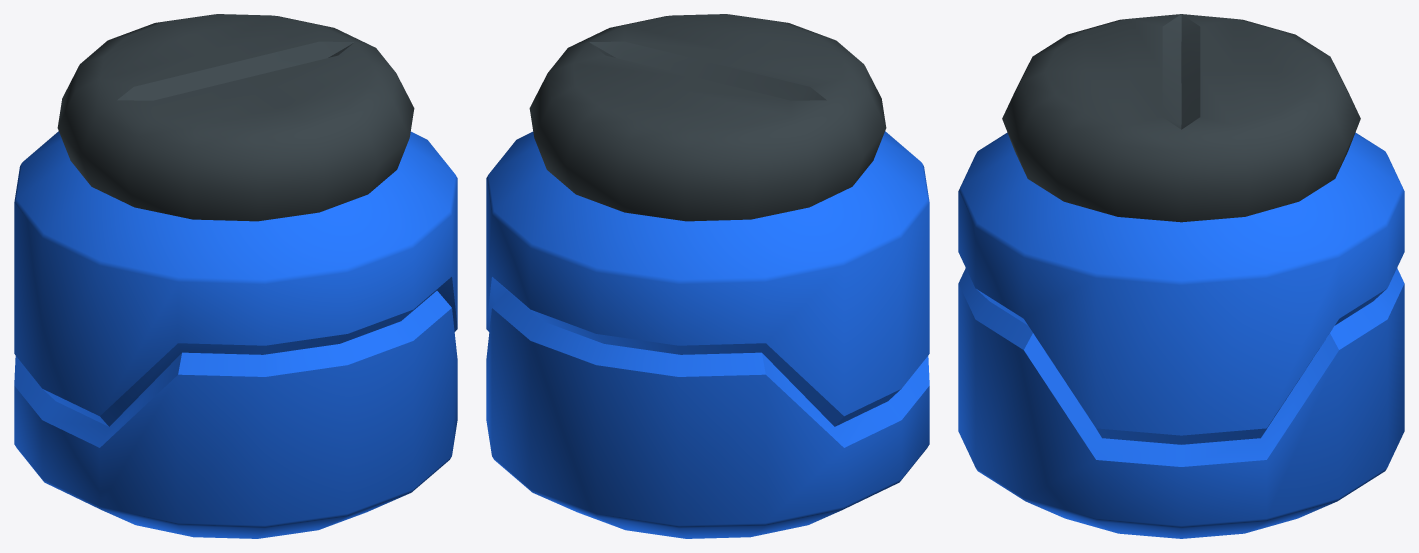
Rendered from liquid_canister.obj.
3 renders of one model, left to right at view 1: azimuth 30°, elevation 25°; view 2: azimuth 150°, elevation 25°; view 3: azimuth 270°, elevation 25°, orthographic.
Visible parts, largest first — view 1: liquid_canister_Cylinder.107; view 2: liquid_canister_Cylinder.107; view 3: liquid_canister_Cylinder.107.
Boxes of the visible parts, left/top/right/bottom form: liquid_canister_Cylinder.107: left=14, top=14, right=457, bottom=538; liquid_canister_Cylinder.107: left=486, top=14, right=929, bottom=538; liquid_canister_Cylinder.107: left=958, top=14, right=1404, bottom=538.
Size of the model in its own units: 0.5541 by 0.5449 by 0.5541.
